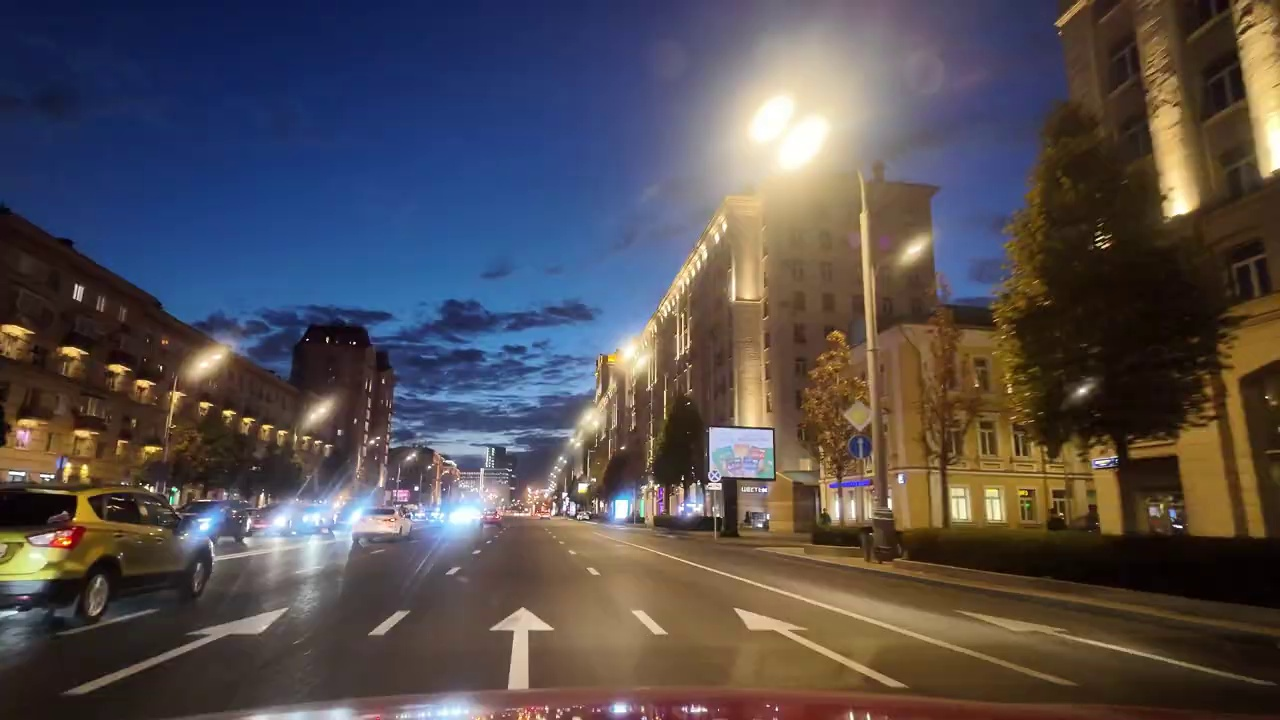acesa: (745, 85, 843, 179), (890, 227, 932, 273), (187, 345, 229, 382), (613, 347, 650, 383)
